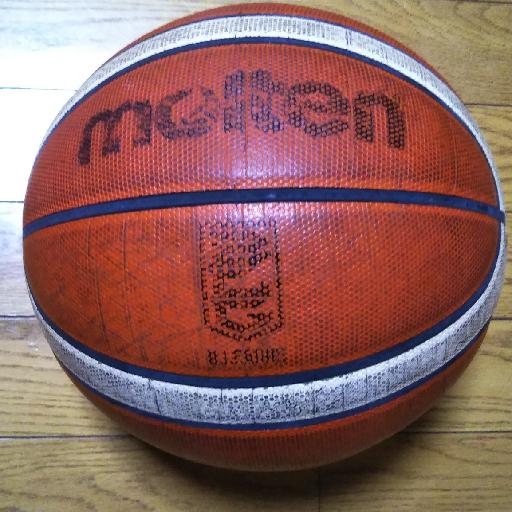ball: (24, 3, 505, 472)
